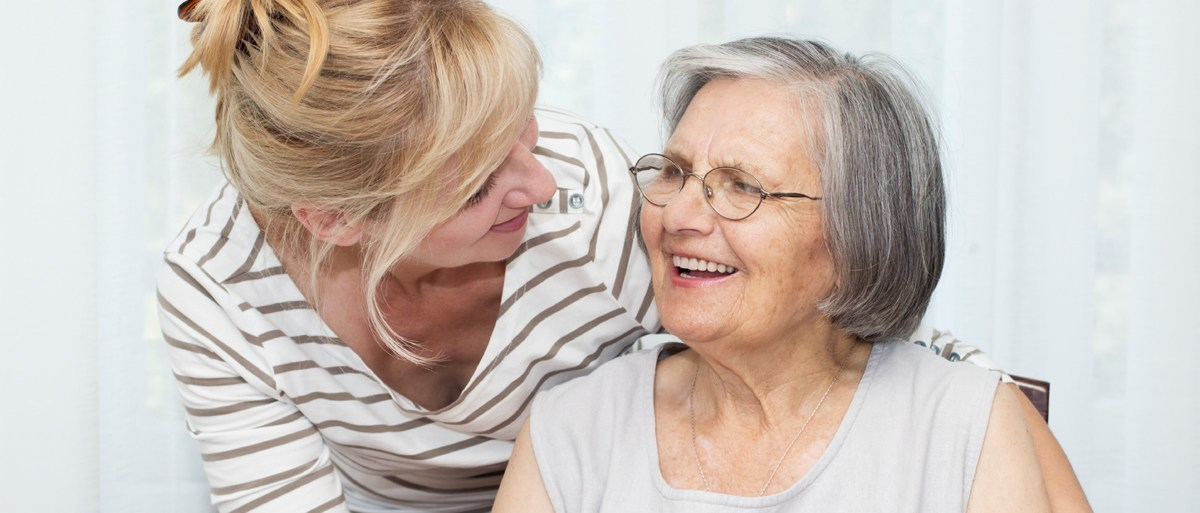stroke: (654, 142, 763, 398)
